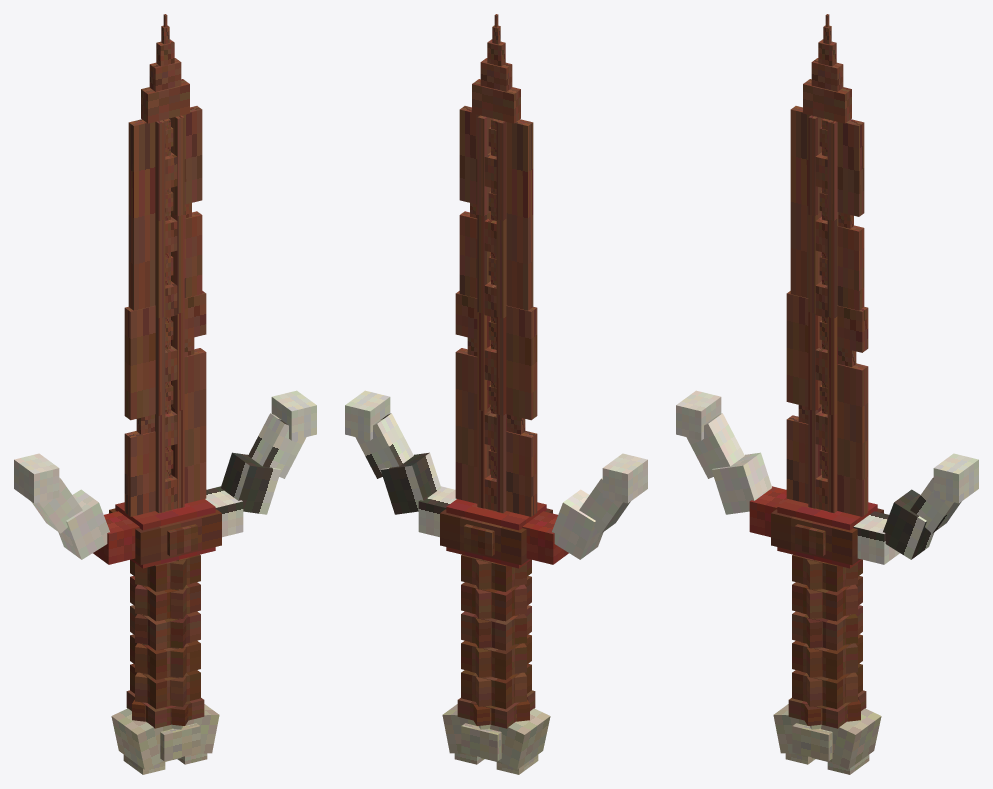
Rendered from bone_sword_v2.obj.
3 views of the same model, side by side, from view 1: azimuth 30°, elevation 25°; view 2: azimuth 150°, elevation 25°; view 3: azimuth 330°, elevation 25° (orthographic).
Parts seen in each view (by area): view 1: bone_sword_v2; view 2: bone_sword_v2; view 3: bone_sword_v2.
Boxes of the visible parts, x1,y1,x2,y2 form: bone_sword_v2: (14, 14, 316, 774); bone_sword_v2: (345, 14, 647, 774); bone_sword_v2: (676, 14, 978, 774).
Size of the model in its own units: 0.6313 by 1.59 by 0.1503.
